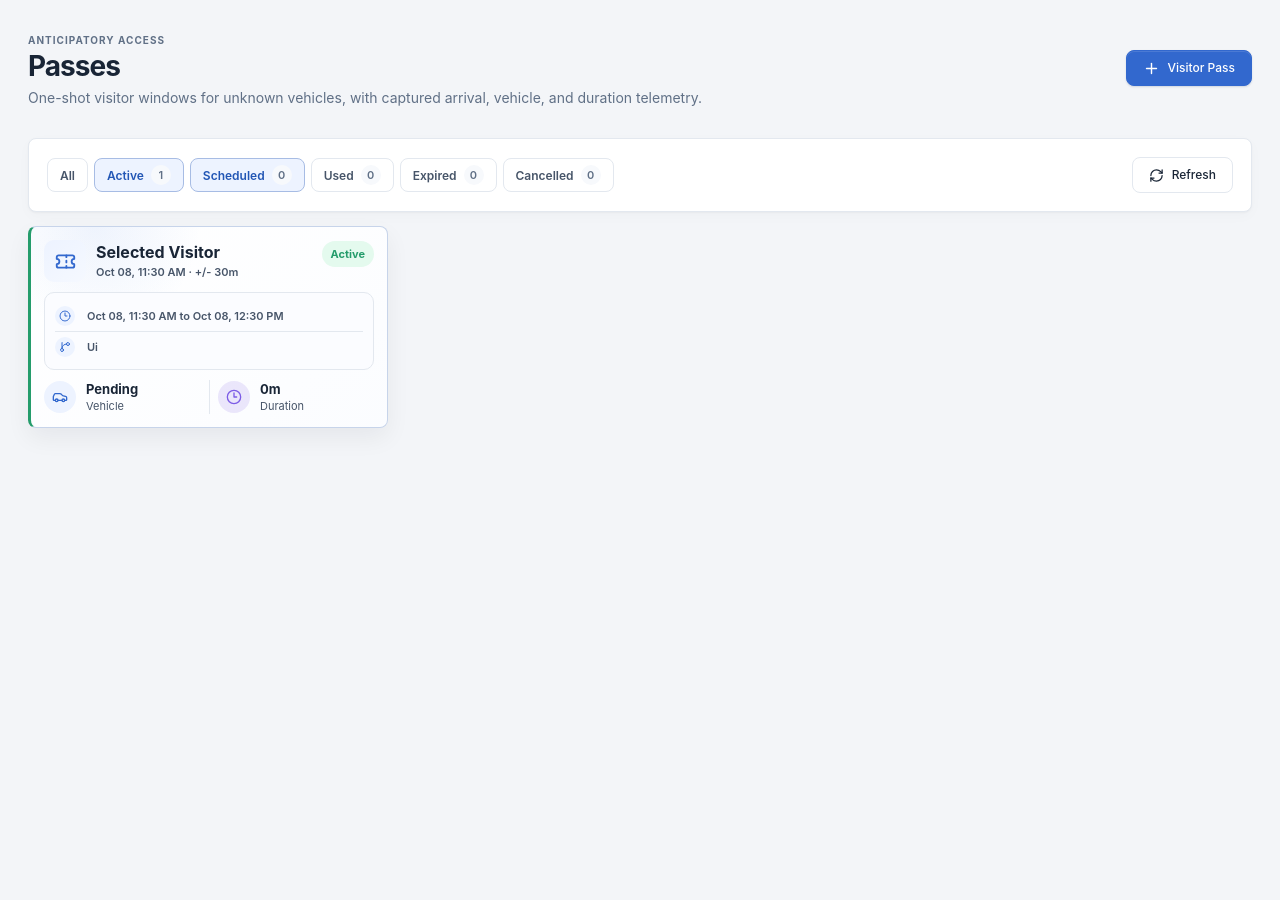
hydrates open details after an aggregate cancellation removes the pass from the filtered list
Click the button "Selected Visitor". click: (208, 328)
box: [28,226,388,428]
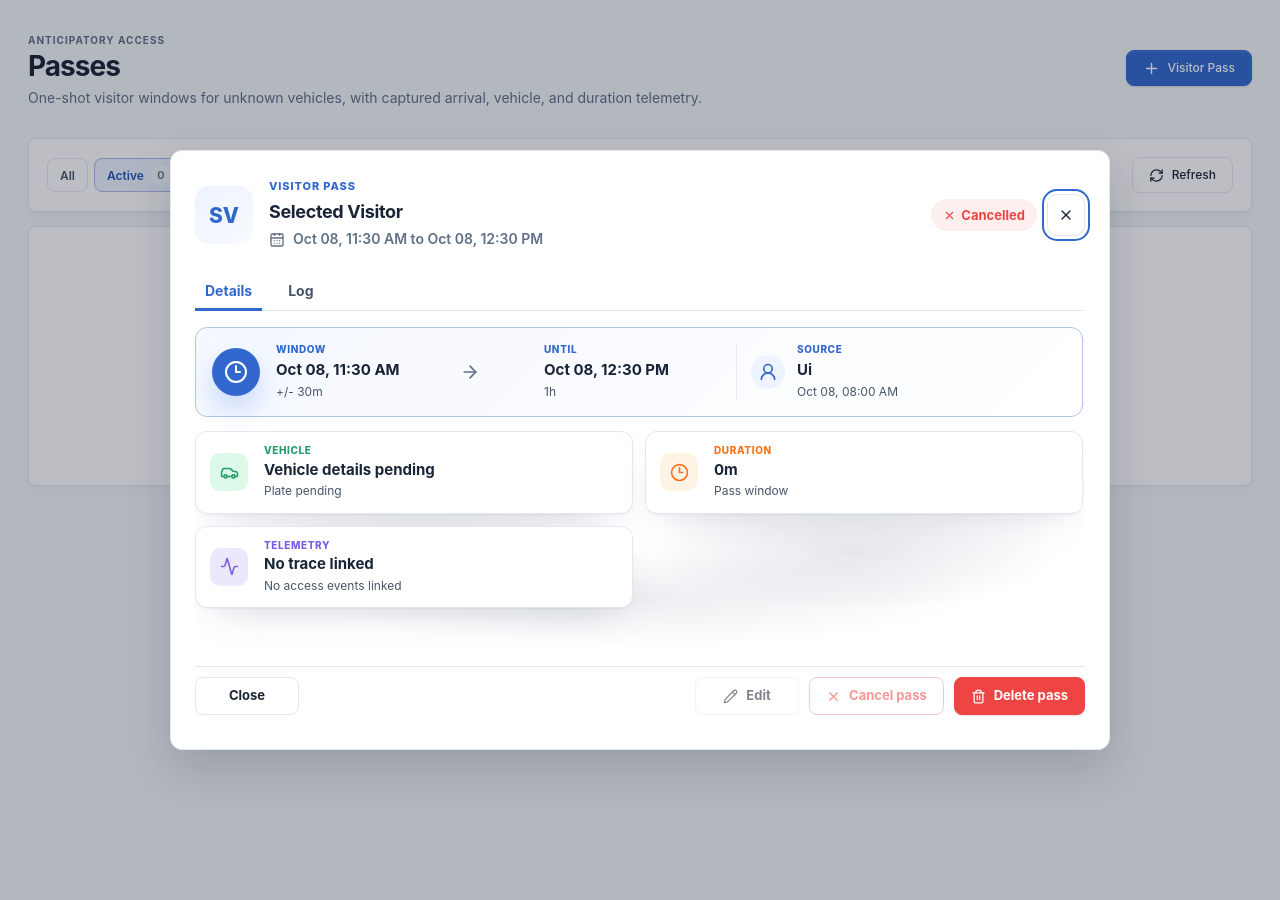
Now the dialog "Selected Visitor" is shown, box [170,150,1110,750]
Now the text "No Visitor Passes match this view" is shown, box [535,326,745,343]
Now the text "Cancelled" is shown, box [961,207,1025,224]
